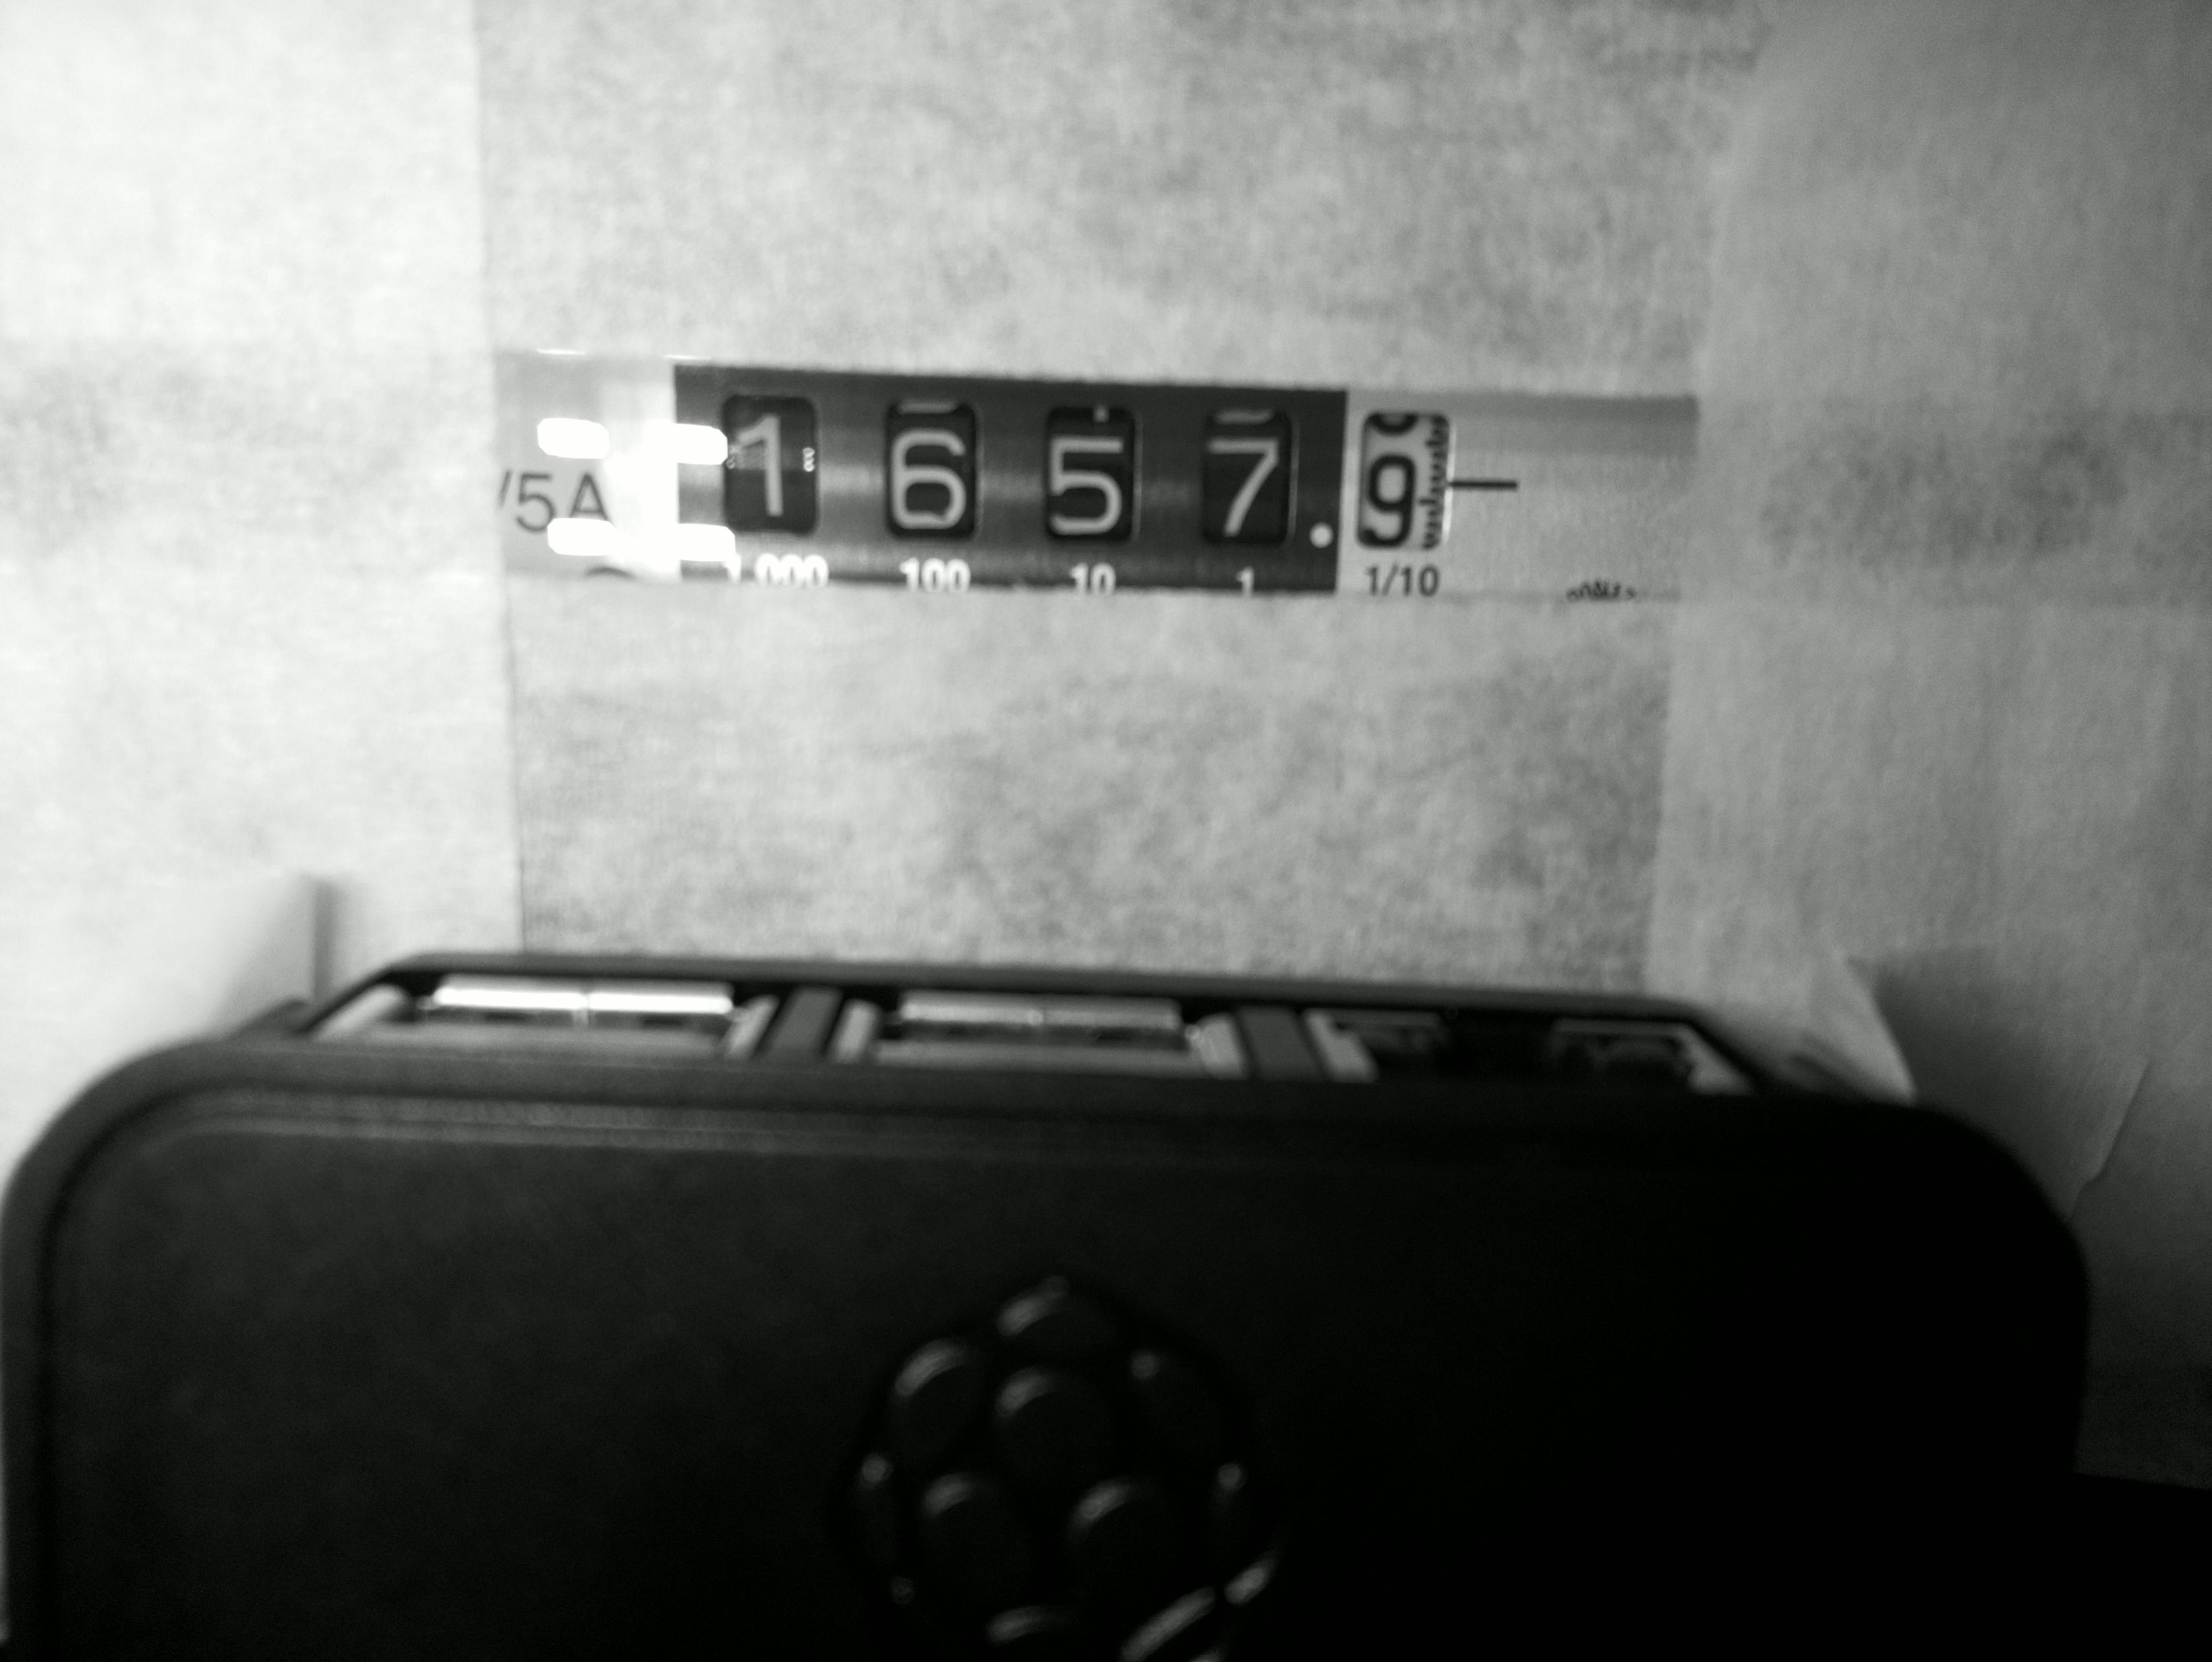meter_box: (711, 326, 1489, 634)
